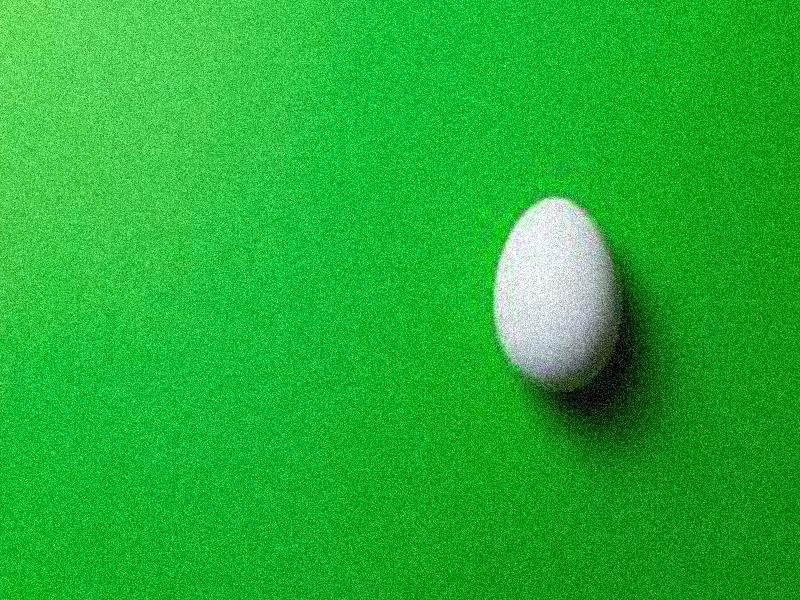Eggs: (495, 196, 621, 391)
